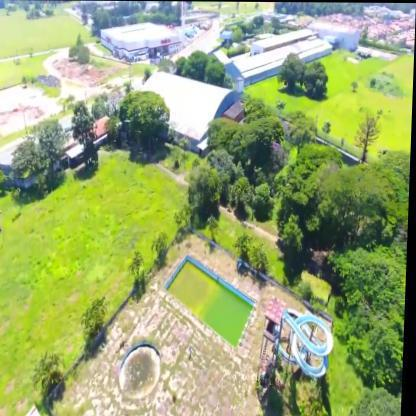agua: (119, 345, 168, 406), (175, 269, 225, 310), (209, 296, 248, 338)
